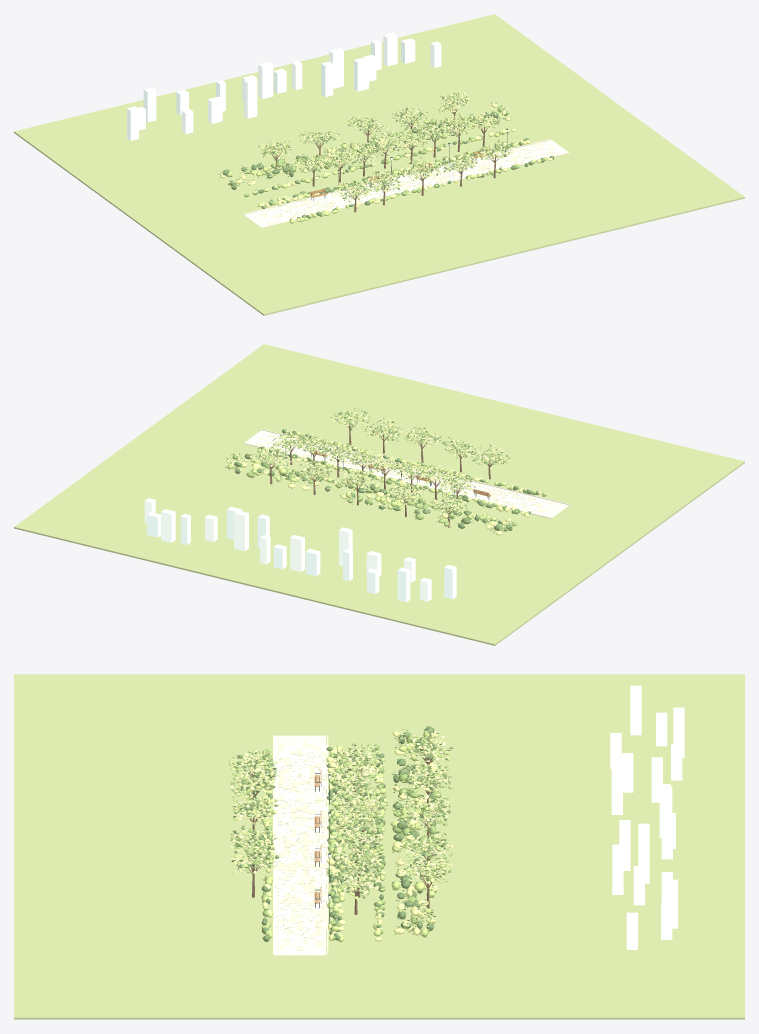
File: park.glb
3 views of the same model, one above another, from view 1: azimuth 30°, elevation 25°; view 2: azimuth 150°, elevation 25°; view 3: azimuth 270°, elevation 25° (orthographic). The views are drawn at different scales.
Parts seen in each view (by area): view 1: grass_0, city1_7, leaf3_12, leaf0_13, leaf2_11, leaf1_10, city0_6, leaf4_9, tile1_3, path_1, tile2_2, bark_8; view 2: grass_0, leaf3_12, leaf0_13, leaf1_10, leaf2_11, city1_7, city0_6, leaf4_9, tile1_3, path_1, tile2_2, bark_8; view 3: grass_0, leaf3_12, leaf0_13, leaf2_11, leaf1_10, path_1, city1_7, tile1_3, leaf4_9, city0_6, tile2_2, dapple_15 (+1 smaller).
Boxes of the visible parts, x1,y1,x2,y2 form: grass_0: (14,14,744,315); city1_7: (137,32,441,134); leaf3_12: (219,93,552,221); leaf0_13: (220,93,554,219); leaf2_11: (218,93,546,223); leaf1_10: (222,93,530,220); city0_6: (127,38,415,140); leaf4_9: (218,92,511,197); tile1_3: (243,139,569,228); path_1: (244,140,568,227); tile2_2: (255,142,559,220); bark_8: (270,99,498,212); grass_0: (14,344,744,645); leaf3_12: (226,410,540,535); leaf0_13: (225,408,538,534); leaf1_10: (226,409,545,531); leaf2_11: (225,411,547,536); city1_7: (144,498,431,601); city0_6: (147,506,456,602); leaf4_9: (230,410,510,532); tile1_3: (243,429,569,518); path_1: (244,430,569,518); tile2_2: (249,434,554,514); bark_8: (265,420,497,527); grass_0: (14,674,744,1019); leaf3_12: (228,728,452,941); leaf0_13: (230,726,453,941); leaf2_11: (229,728,451,941); leaf1_10: (229,726,452,939); path_1: (274,735,325,955); city1_7: (610,712,677,949); tile1_3: (273,735,328,955); leaf4_9: (230,730,452,929); city0_6: (612,685,684,939); tile2_2: (278,740,326,952); dapple_15: (275,753,325,938).
Size of the model in its own units: 100 by 7.39 by 90.
